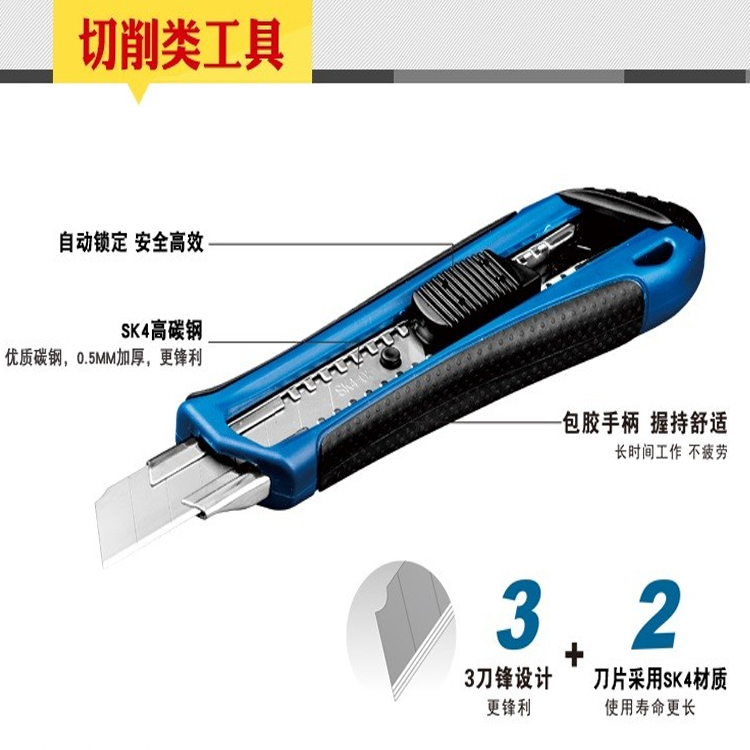cutter: (90, 187, 706, 570)
